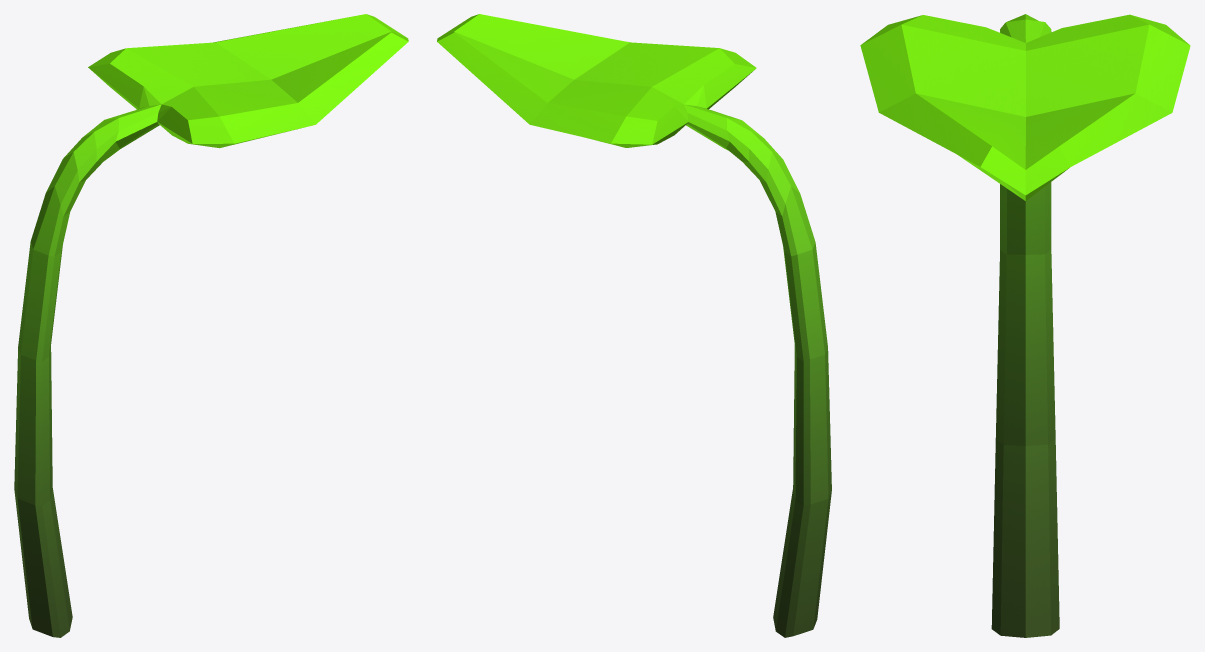
The model's file is objPlatform1.fbx.
3 views of the same model, side by side, from view 1: azimuth 30°, elevation 25°; view 2: azimuth 150°, elevation 25°; view 3: azimuth 270°, elevation 25° (orthographic). The views are drawn at different scales.
Visible parts, largest first — view 1: pasted__pasted__pCube1; view 2: pasted__pasted__pCube1; view 3: pasted__pasted__pCube1.
Boxes of the visible parts, <box> form: pasted__pasted__pCube1: <box>14,14,408,637</box>; pasted__pasted__pCube1: <box>437,14,831,637</box>; pasted__pasted__pCube1: <box>860,14,1190,637</box>.
Bounding box in the file's own units: 648 × 831 × 357.
